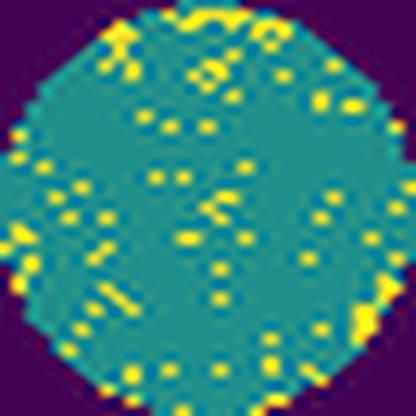Edge-Loc: (344, 268, 409, 352), (96, 15, 145, 86)
